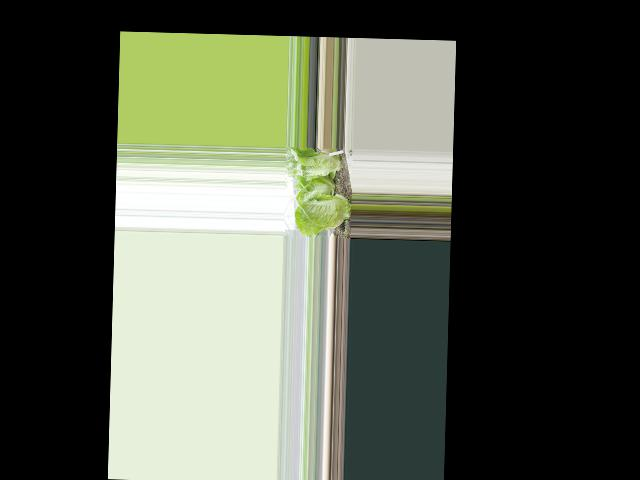lettuce: (290, 150, 347, 182)
